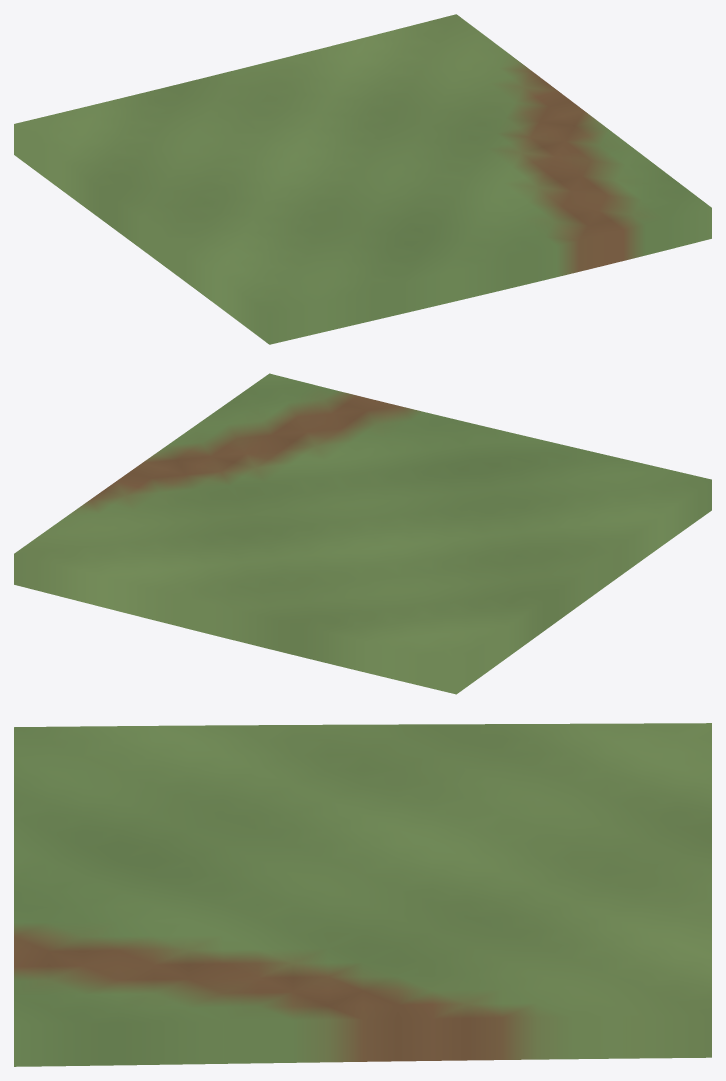
3 views of the same model, one above another, from view 1: azimuth 30°, elevation 25°; view 2: azimuth 150°, elevation 25°; view 3: azimuth 270°, elevation 25° (orthographic). The views are drawn at different scales.
Visible parts, largest first — view 1: terrain; view 2: terrain; view 3: terrain.
Part boxes in pixels (x1,y1,x2,y2): terrain: [14, 14, 711, 344]; terrain: [14, 373, 711, 694]; terrain: [14, 723, 711, 1066].
Bounding box in the file's own units: 30 × 2.48 × 30.
